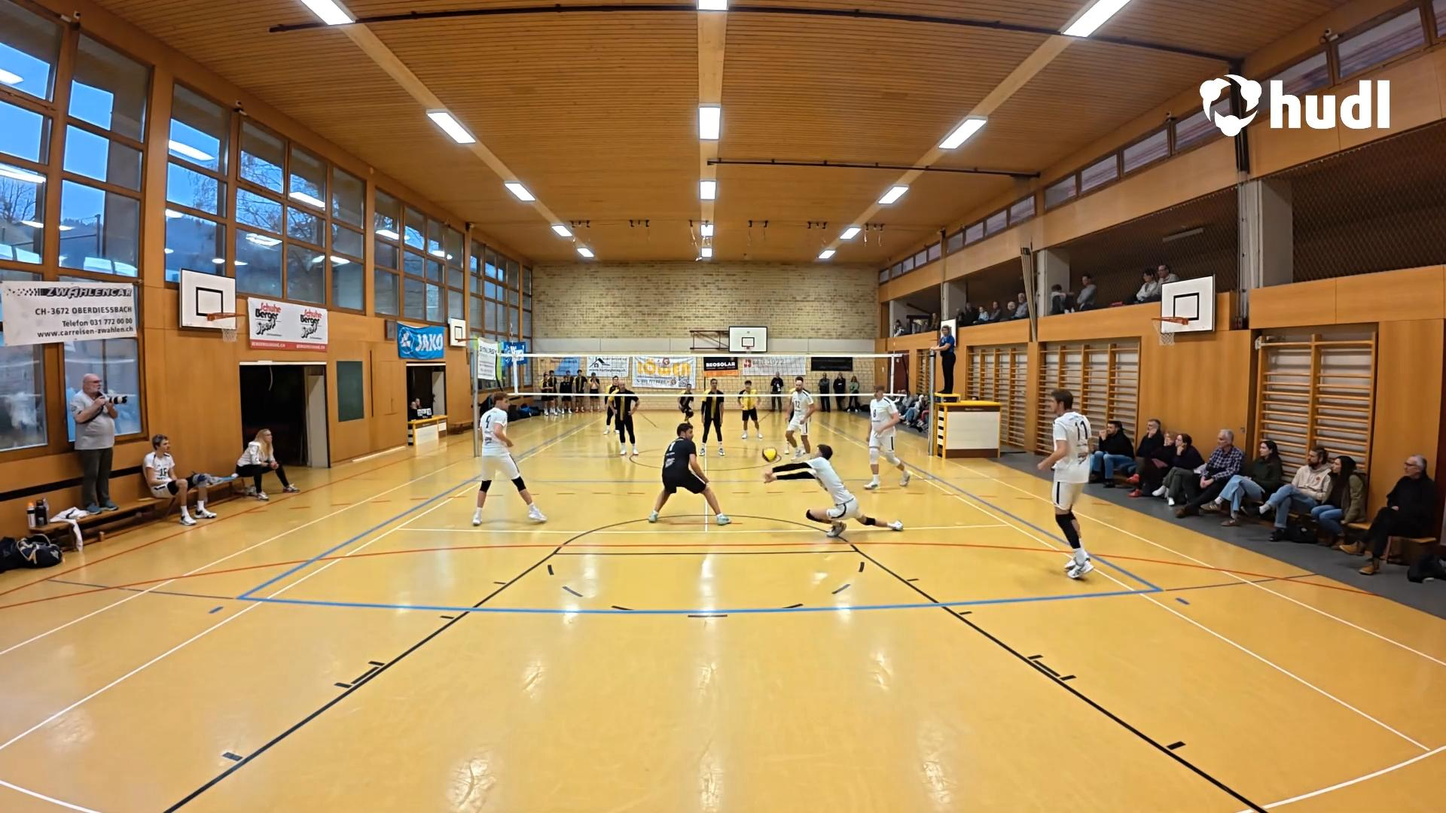Player: (1042, 389, 1097, 581), (471, 393, 548, 525), (648, 421, 728, 527), (862, 382, 909, 490), (608, 381, 642, 463), (782, 378, 815, 456), (698, 376, 729, 455), (674, 383, 703, 449), (739, 379, 764, 445), (605, 375, 619, 431)
Receive: (749, 443, 907, 537)
ball: (759, 443, 778, 464)
